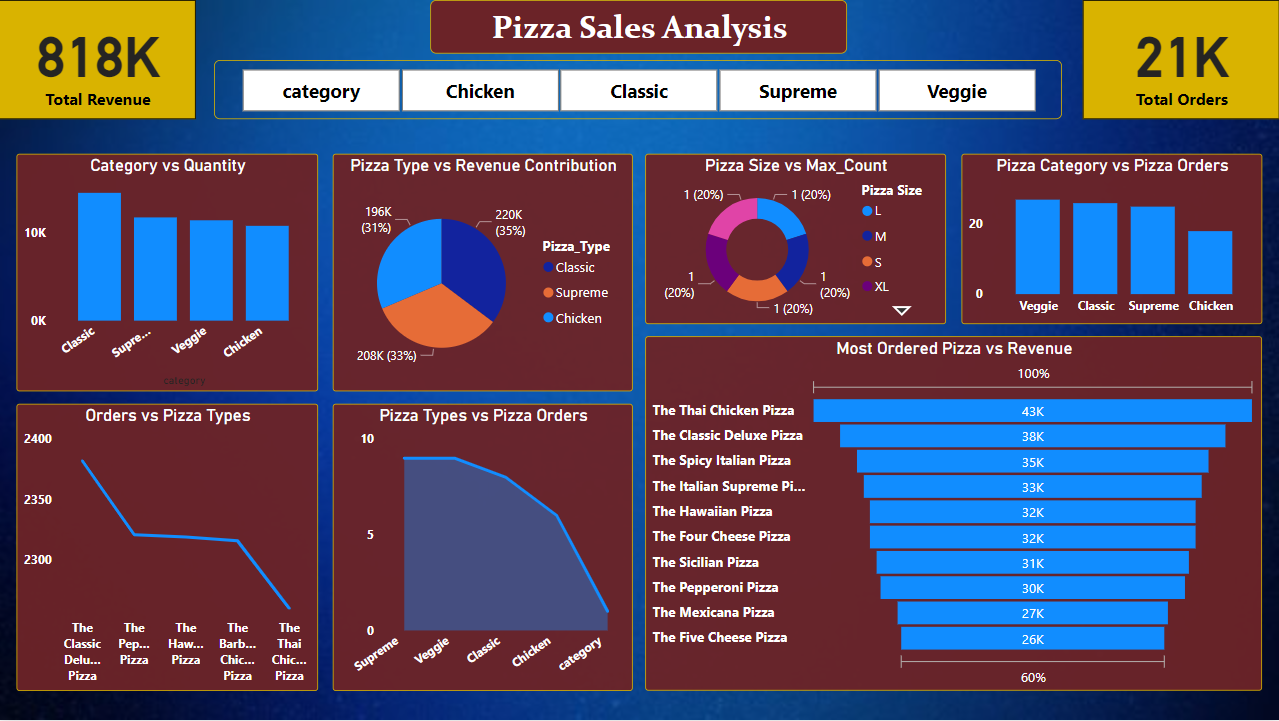

Layout of this report page (visuals, bound fields, positions):
{"tool":"powerbi","page":{"name":"Page 1","canvas":[1280,720],"ordinal":0},"visuals":[{"type":"textbox","box":[430.9,0,417.2,53.5],"z":0},{"type":"card","fields":{"Values":["Sum(Total Revenue.round(sum(order_details.quantity*pizzas.price)))"]},"box":[0,0,196.6,119.4],"z":1000},{"type":"card","fields":{"Values":["Sum(Total Number Of Order Placed.count(order_id))"]},"box":[1083.4,0,196.6,119.4],"z":2000},{"type":"slicer","fields":{"Values":["pizza_types.Column3"]},"box":[214.7,60.3,848.1,59.1],"z":3000},{"type":"columnChart","title":"Category vs Quantity","fields":{"Category":["total quantity vs pizza category.category"],"Y":["Sum(total quantity vs pizza category.Total_Quantity)"]},"box":[17.5,153.8,301.2,237.5],"z":4000},{"type":"pieChart","title":"Pizza Type vs Revenue Contribution","fields":{"Category":["percentage contrivution of each pizza of total revenue.pizza_type"],"Y":["Sum(percentage contrivution of each pizza of total revenue.total_revenue)"]},"box":[333.8,153.8,300,237.5],"z":5000},{"type":"donutChart","title":"Pizza Size vs Max_Count","fields":{"Category":["Most Common Pizza Size Ordered.size"],"Y":["CountNonNull(Most Common Pizza Size Ordered.Max_Count)"]},"box":[646.3,153.7,300.5,170.2],"z":6000},{"type":"clusteredColumnChart","title":"Pizza Category vs Pizza Orders","fields":{"Category":["category wise distribution of pizzas.category"],"Y":["Sum(category wise distribution of pizzas.Pizza_Distributions)"]},"box":[961.9,153.7,300.5,170.2],"z":7000},{"type":"funnel","title":"Most Ordered Pizza vs Revenue","fields":{"Category":["3 most ordered pizza types vs revenue vs pizza category.name"],"Y":["Sum(3 most ordered pizza types vs revenue vs pizza category.Revenue)"]},"box":[646.7,336.6,616.5,354.7],"z":8000},{"type":"areaChart","title":"Pizza Types vs Pizza Orders","fields":{"Category":["pizza_types.Column3"],"Y":["CountNonNull(pizza_types.Column4)"]},"box":[333.8,403.8,300,287.5],"z":10000},{"type":"lineChart","title":"Orders vs Pizza Types","fields":{"Category":["5 most ordered pizza types with quantities.name"],"Y":["Sum(5 most ordered pizza types with quantities.Max_Count)"]},"box":[17.5,403.8,301.2,287.5],"z":11000}]}

Visuals, with their boxes in screenshot pixels (x1, y1, x2, y2), scaled from the page's 1280x720 canvas onto the 1279x721 screenshot:
textbox: [431,0,847,54]
card - Sum(Total Revenue.round(sum(order_details.quantity*pizzas.price))): [0,0,196,120]
card - Sum(Total Number Of Order Placed.count(order_id)): [1083,0,1278,120]
slicer - pizza_types.Column3: [215,60,1062,120]
"Category vs Quantity" columnChart: [17,154,318,392]
"Pizza Type vs Revenue Contribution" pieChart: [334,154,633,392]
"Pizza Size vs Max_Count" donutChart: [646,154,946,324]
"Pizza Category vs Pizza Orders" clusteredColumnChart: [961,154,1261,324]
"Most Ordered Pizza vs Revenue" funnel: [646,337,1262,692]
"Pizza Types vs Pizza Orders" areaChart: [334,404,633,692]
"Orders vs Pizza Types" lineChart: [17,404,318,692]
